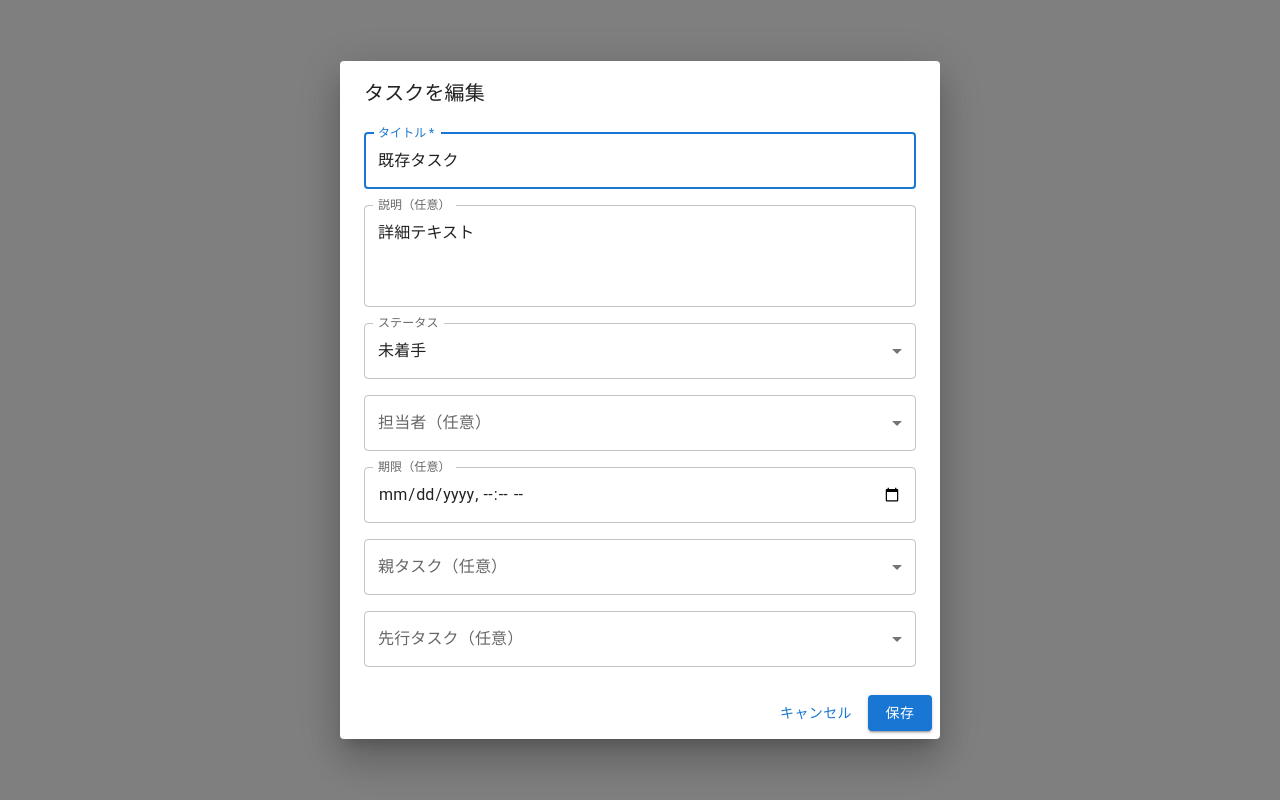
Test: EditTaskDialog › タスク更新送信 › API 送信失敗時にエラーメッセージが表示される
This screenshot has width=1280, height=800.
Click the button "保存" at x=900, y=713, box [868,695,932,731]
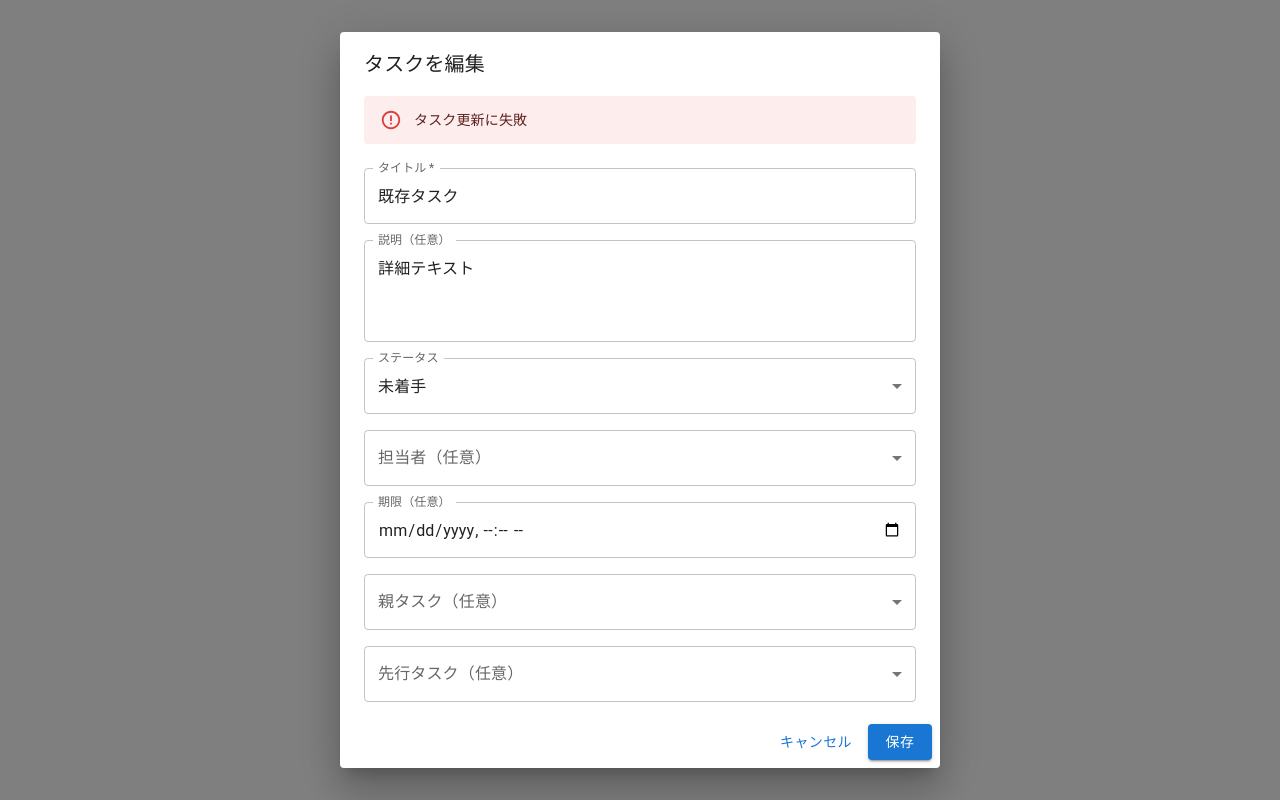
Result: the text "タスク更新に失敗" is shown at [414,112,527,128]
